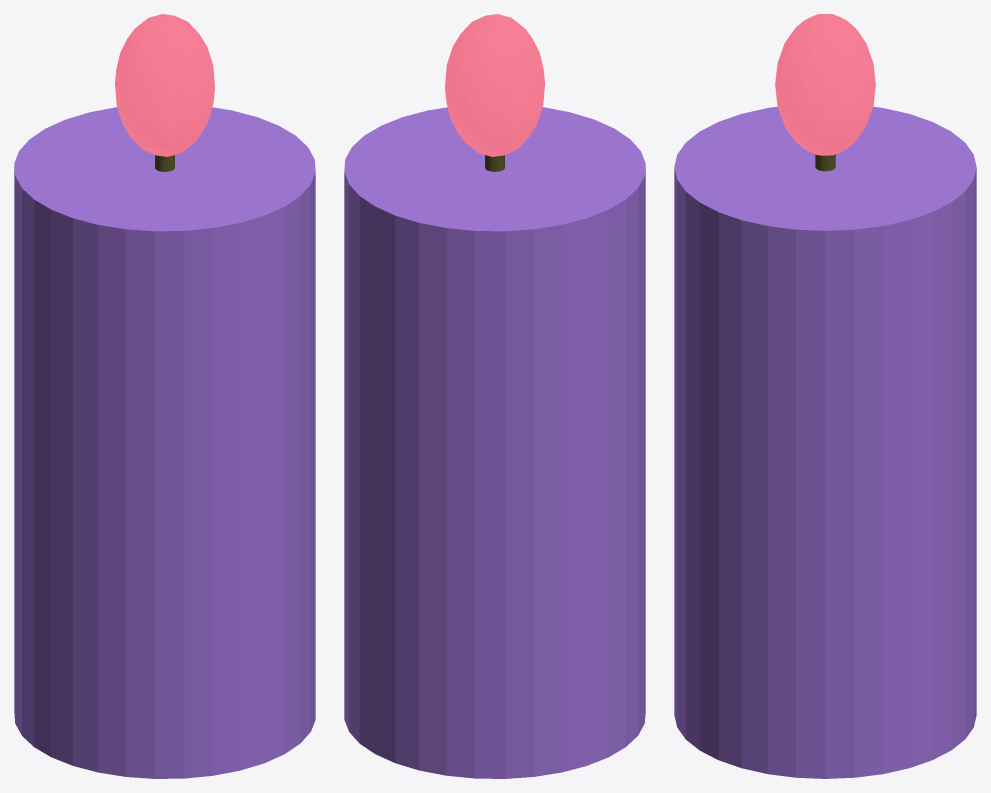
The picture shows the model from 3 angles, left to right: view 1: azimuth 30°, elevation 25°; view 2: azimuth 150°, elevation 25°; view 3: azimuth 270°, elevation 25°; orthographic projection.
Parts seen in each view (by area): view 1: Candle_Body, Flame; view 2: Candle_Body, Flame; view 3: Candle_Body, Flame.
Part boxes in pixels (x1,y1,x2,y2): Candle_Body: [14, 107, 315, 778]; Flame: [115, 14, 214, 156]; Candle_Body: [344, 107, 645, 778]; Flame: [445, 14, 544, 156]; Candle_Body: [674, 106, 976, 778]; Flame: [775, 14, 875, 155].
Size of what is drawn, in the model's own units: 0.3 by 0.765 by 0.3.
